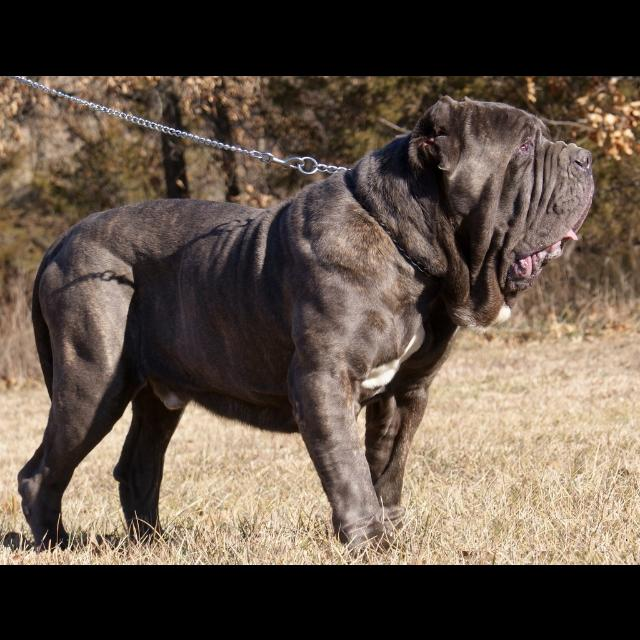mastino_napoletano: (16, 95, 596, 560)
